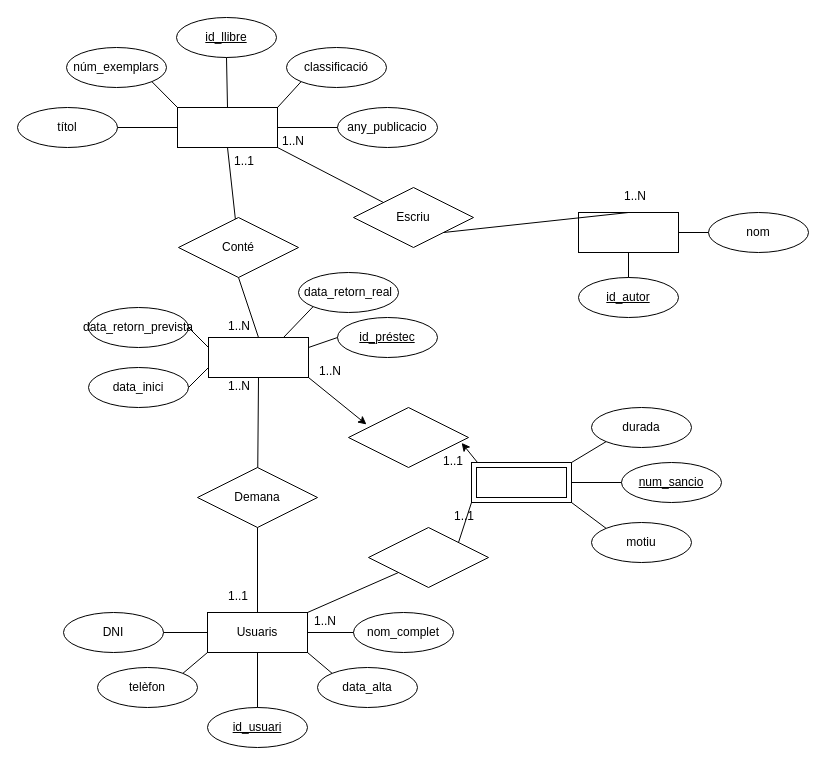
The diagram is 826 pixels wide and 765 high, and some of its shapes have lost their labels. Each missing label, with the box of its shape:
Autor: (578, 212, 678, 252)
generen: (348, 406, 468, 468)
Llibres: (176, 106, 278, 148)
Préstec: (208, 336, 308, 378)
Sancions: (470, 462, 572, 502)
Tenen: (368, 526, 488, 588)
